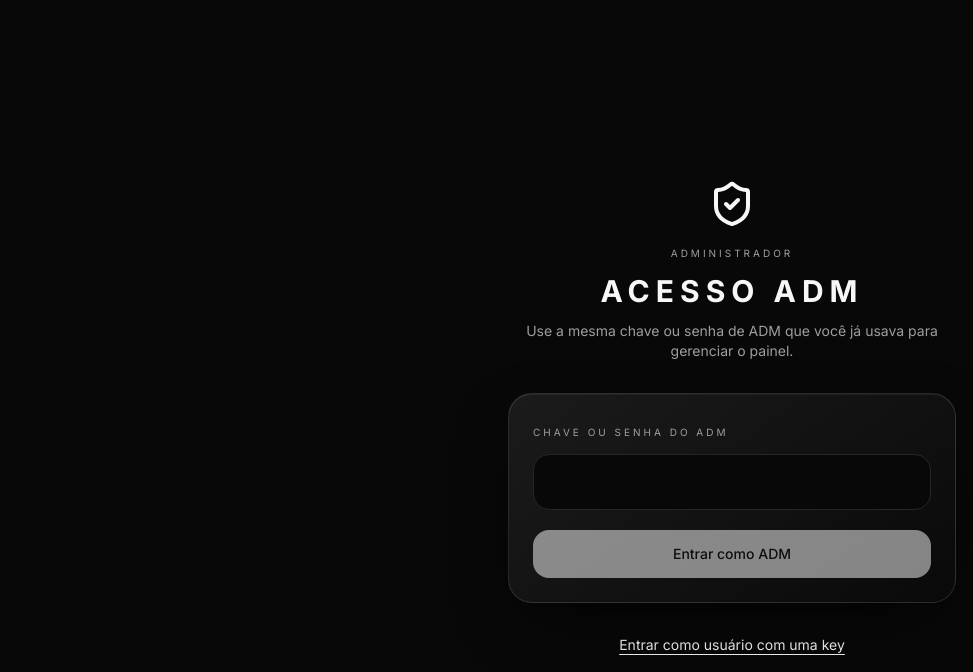
Test: acessos de usuário e ADM › login de ADM preserva maiúsculas/minúsculas e não usa redeem
Type "MinhaSenhaAdm" into the password field labelled "Chave ou senha do ADM" at (732, 482), box [533,454,931,510]
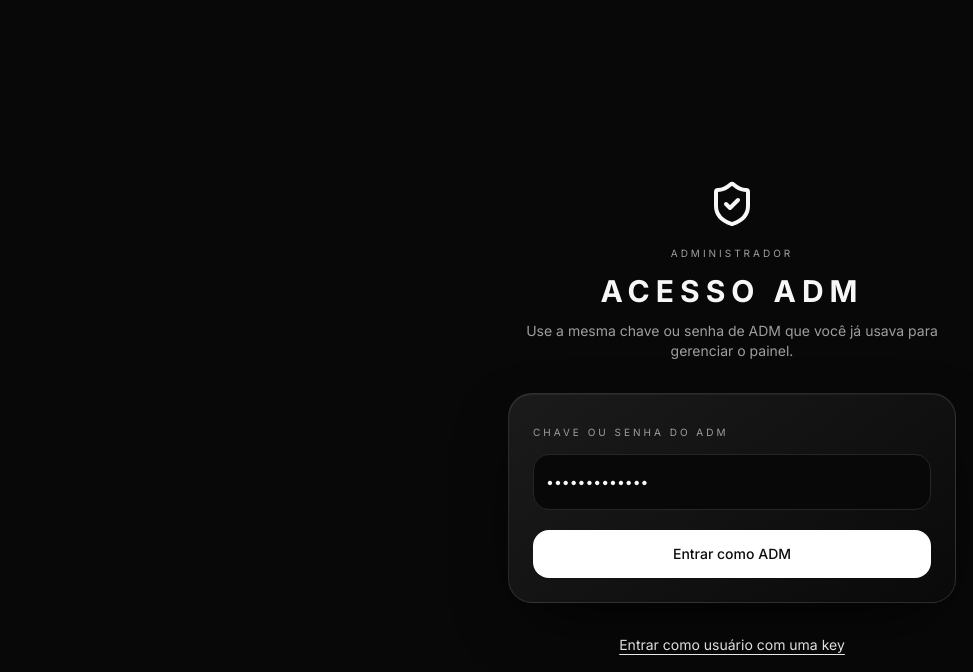
Submit the form named "Login de administrador", box [508,392,956,602]
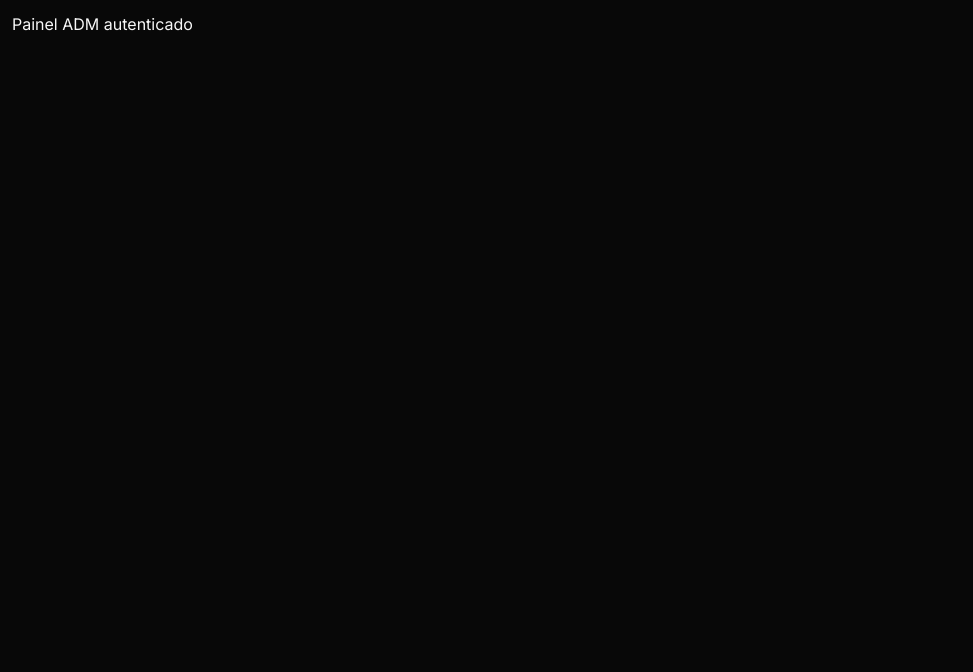
Expected: the text "Painel ADM autenticado" is shown, [12,14,193,34]
